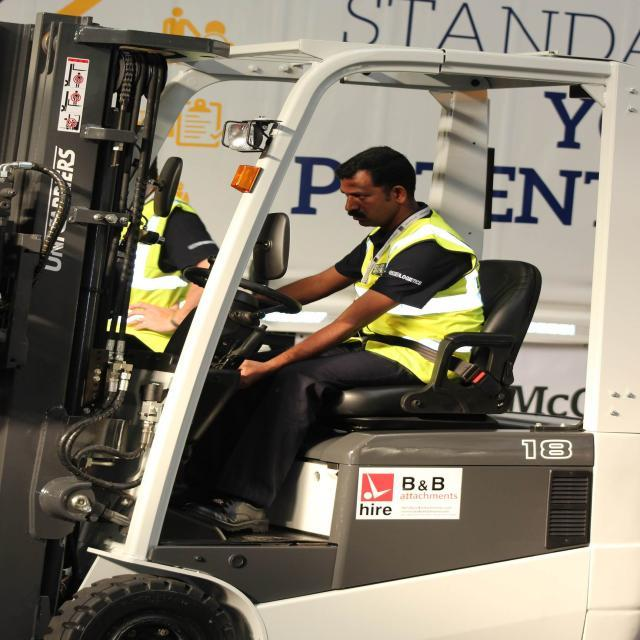driver: (205, 142, 508, 533)
forklift: (11, 31, 630, 626)
